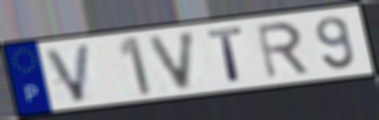1: (118, 34, 154, 99)
9: (313, 15, 357, 71)
R: (253, 20, 312, 82)
T: (205, 25, 247, 85)
V: (145, 28, 200, 93), (41, 41, 94, 105)
